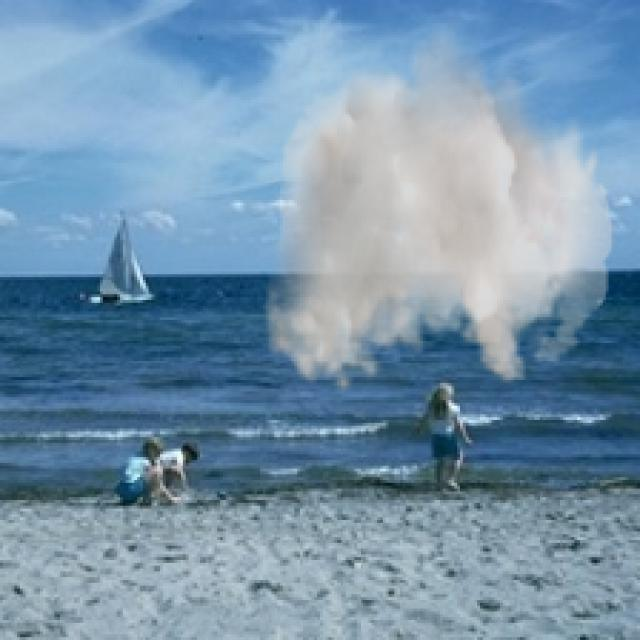Smoke: (262, 17, 614, 394)
